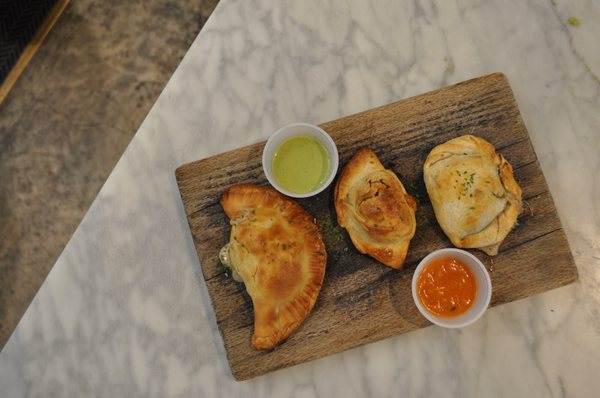pasta: (422, 133, 523, 252)
pizza: (262, 122, 339, 199)
sushi: (411, 247, 492, 328), (262, 121, 339, 199)
